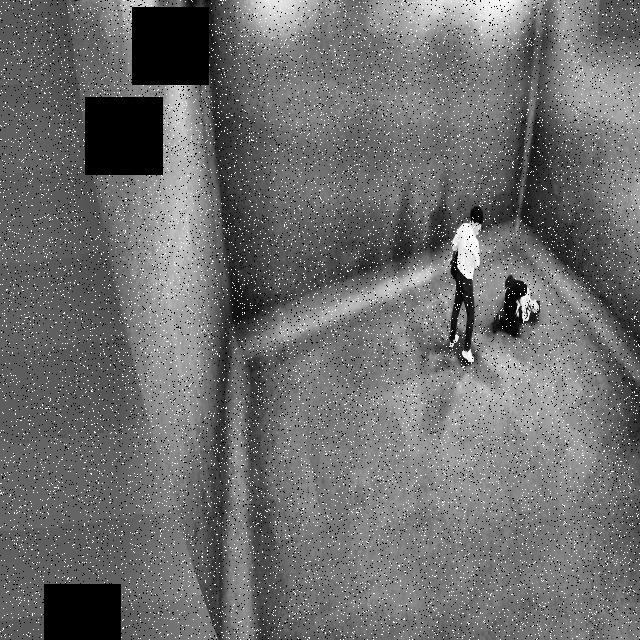assult: (439, 202, 548, 374), (490, 258, 542, 338)
